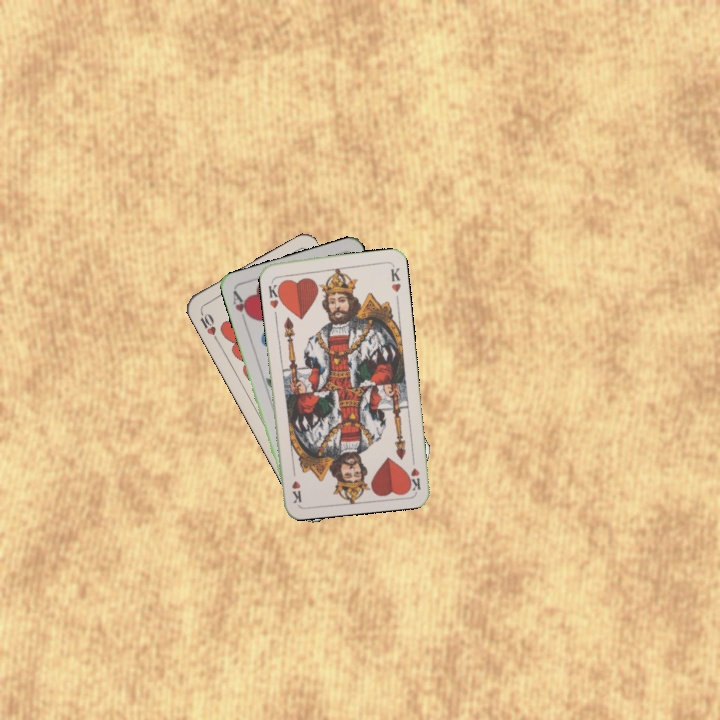H10: (196, 306, 221, 343)
HA: (228, 287, 253, 326)
HK: (404, 451, 423, 492), (264, 276, 285, 311)
